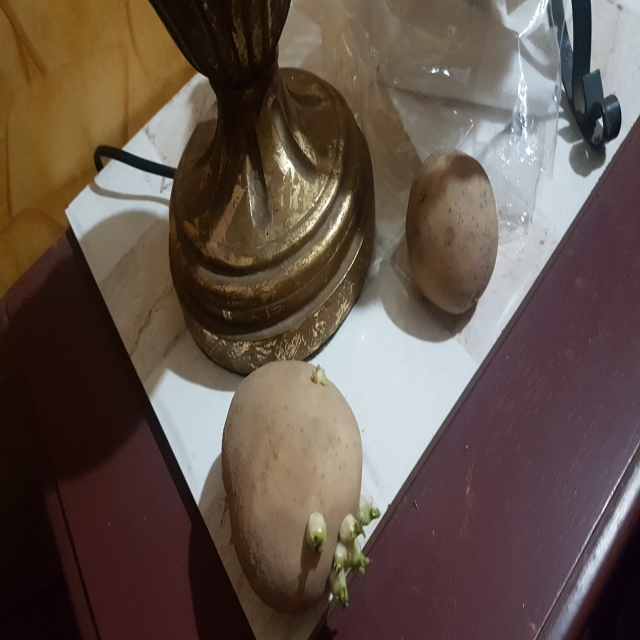potato: (222, 361, 383, 619), (397, 144, 498, 323)
